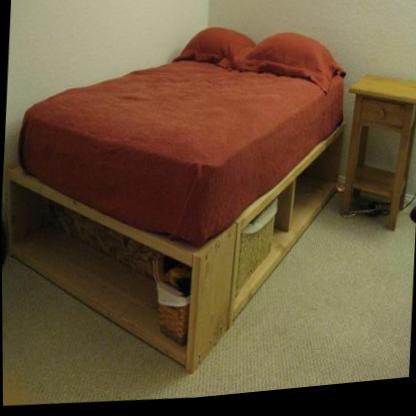Bed: (6, 33, 346, 377)
Carpet: (197, 206, 415, 401)
